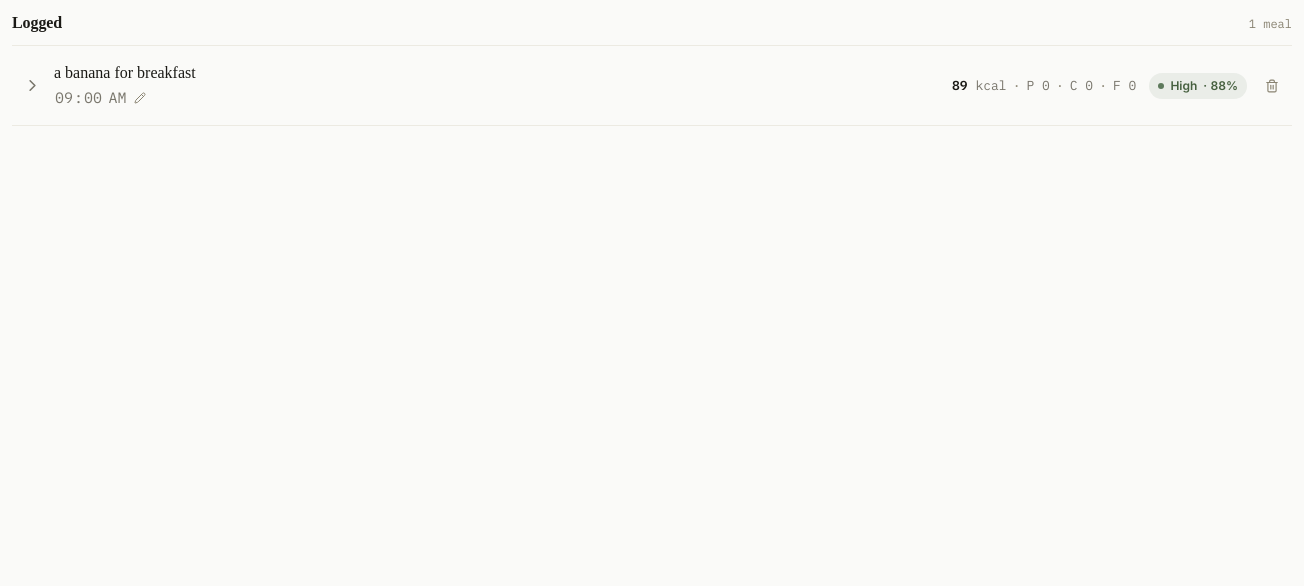
Test case: MealList › renders trace steps for a history-loaded meal once the row is expanded
Check: the text "Parsed 1 food" is not shown
Click the button with class "meal-head" at (125, 72), box left=22, top=64, right=1284, bottom=109
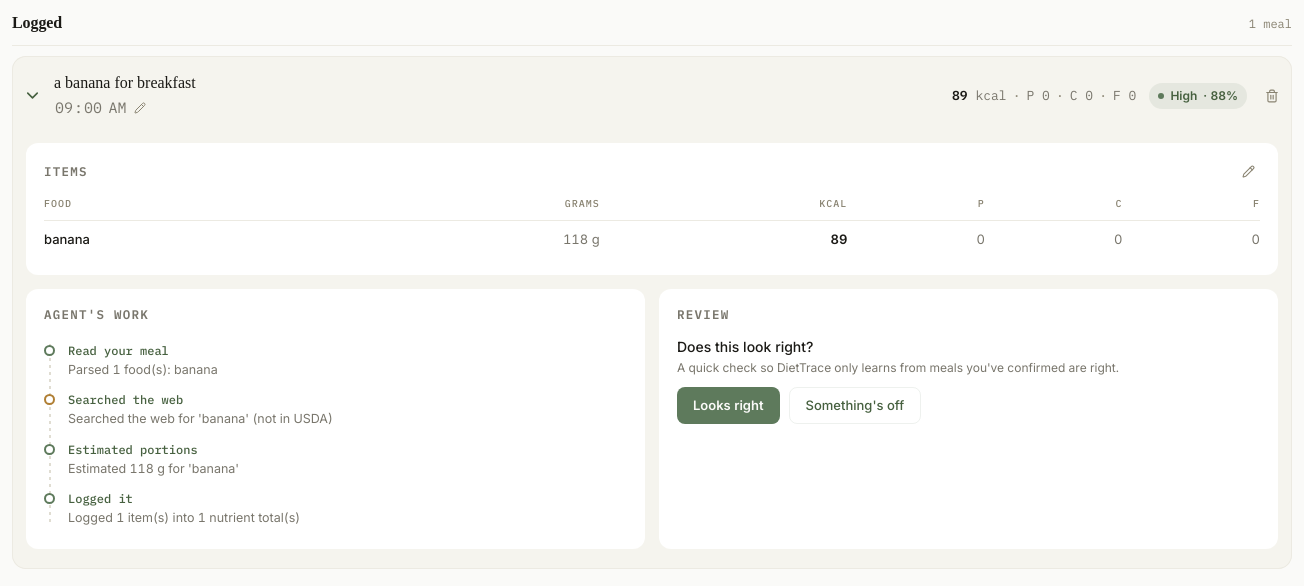
Check: the text "Parsed 1 food(s): banana" is shown, box left=68, top=362, right=218, bottom=377
Check: the text "Searched the web for 'banana' (not in USDA)" is shown, box left=68, top=412, right=333, bottom=426
Check: the text "Estimated 118 g for 'banana'" is shown, box left=68, top=461, right=239, bottom=476
